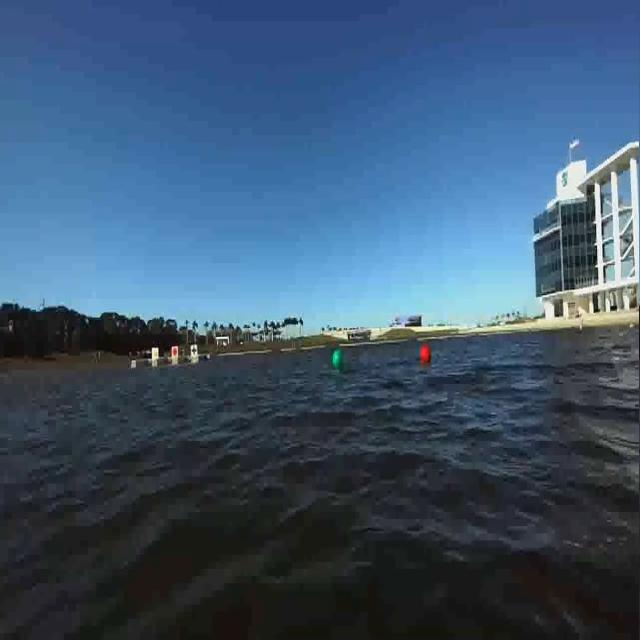green-buoy: (332, 350, 345, 369)
red-buoy: (421, 345, 431, 364)
